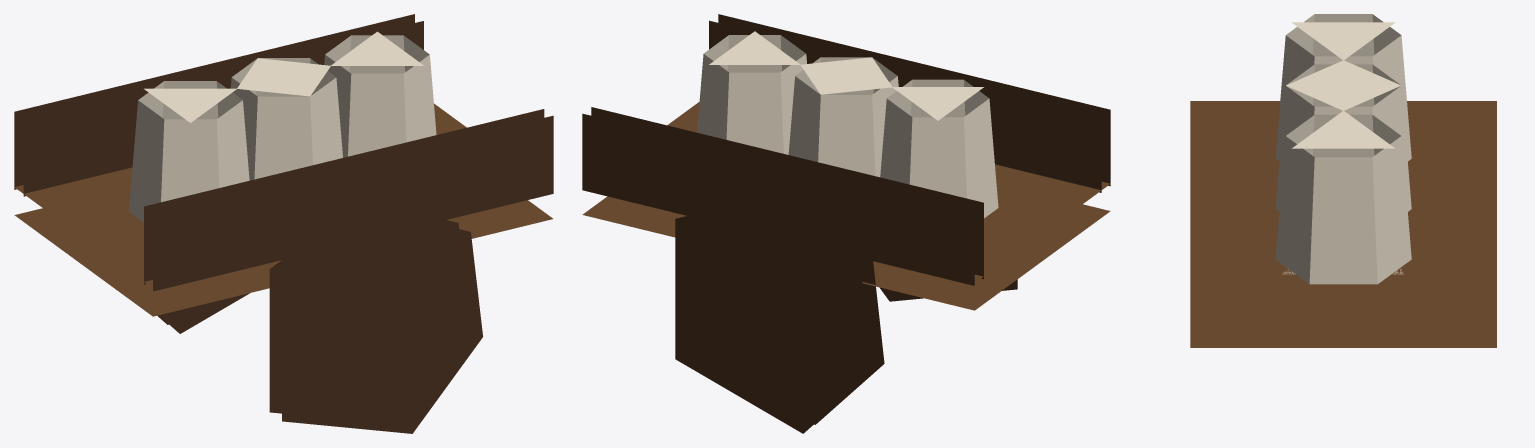
Rendered from prop_cart_lod1.glb.
3 renders of one model, left to right at view 1: azimuth 30°, elevation 25°; view 2: azimuth 150°, elevation 25°; view 3: azimuth 270°, elevation 25°, orthographic. The views are drawn at different scales.
Visible parts, largest first — view 1: prop_cart_lod1; view 2: prop_cart_lod1; view 3: prop_cart_lod1.
Part boxes in pixels (box(x1,y1,x2,y2)): prop_cart_lod1: box(14, 14, 553, 433); prop_cart_lod1: box(582, 14, 1110, 433); prop_cart_lod1: box(1190, 14, 1496, 347).
Size of the model in its own units: 1.5 by 1.07 by 1.12.
